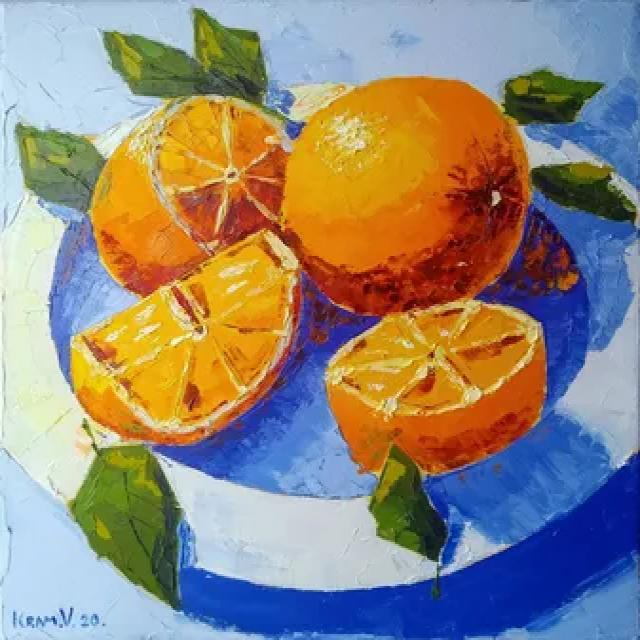orange: (269, 67, 535, 325)
